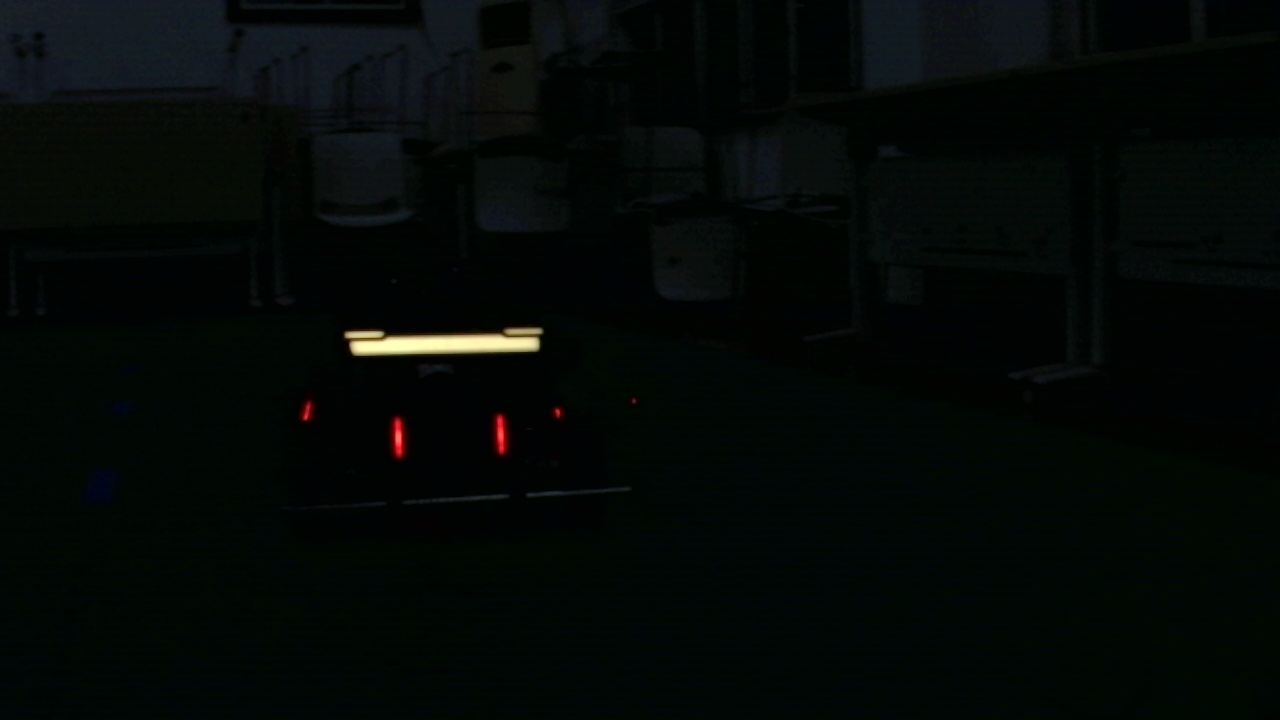lamp: (488, 415, 508, 456), (391, 415, 405, 459)
pair1: (393, 414, 505, 454)
